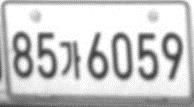0: (111, 31, 132, 79)
5: (137, 32, 159, 80), (37, 31, 57, 79)
6: (86, 31, 108, 79)
8: (11, 30, 33, 77)
9: (161, 31, 184, 82)
가: (59, 40, 81, 80)
